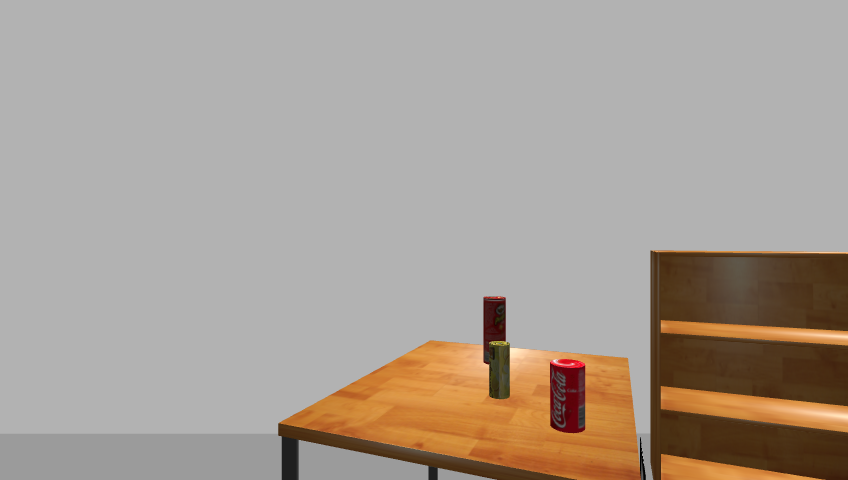aruco marker: (635, 437, 652, 480)
biscuits pack: (486, 341, 514, 398)
bookshelf: (644, 248, 848, 479)
coke can: (548, 359, 586, 434)
dinner table: (273, 340, 647, 480)
pringles can: (483, 295, 507, 362)
